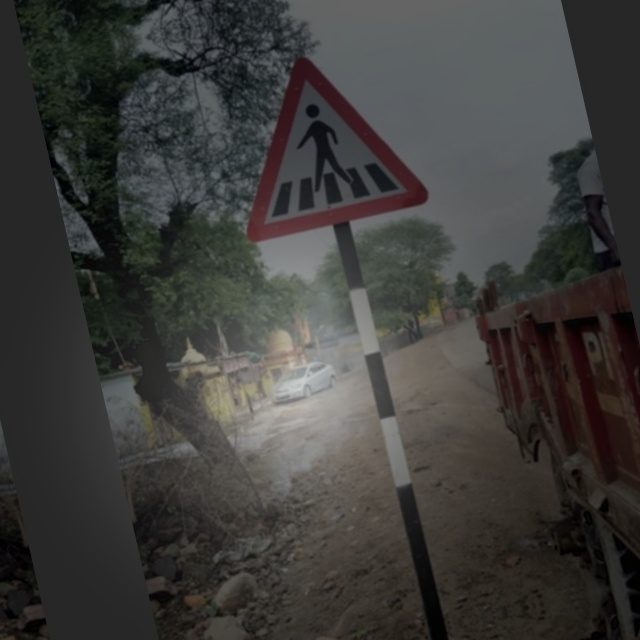Pedestrian_Crossing: (214, 37, 441, 248)
